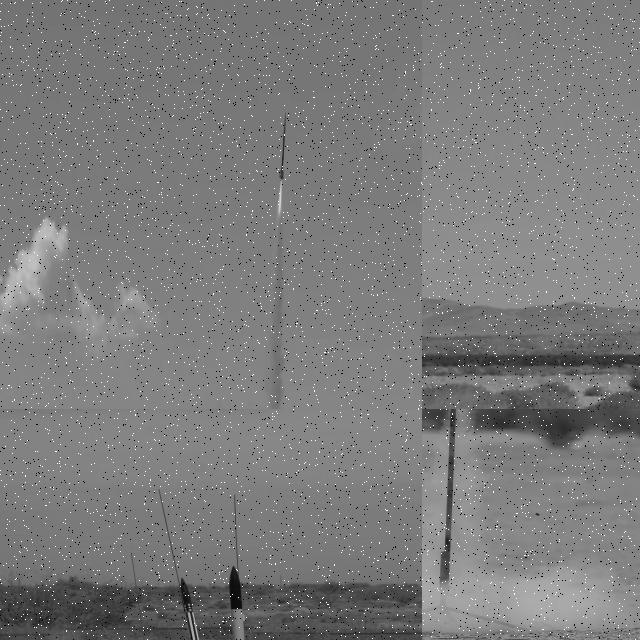Rocket: (223, 564, 260, 640), (180, 577, 208, 640), (278, 111, 286, 181)
